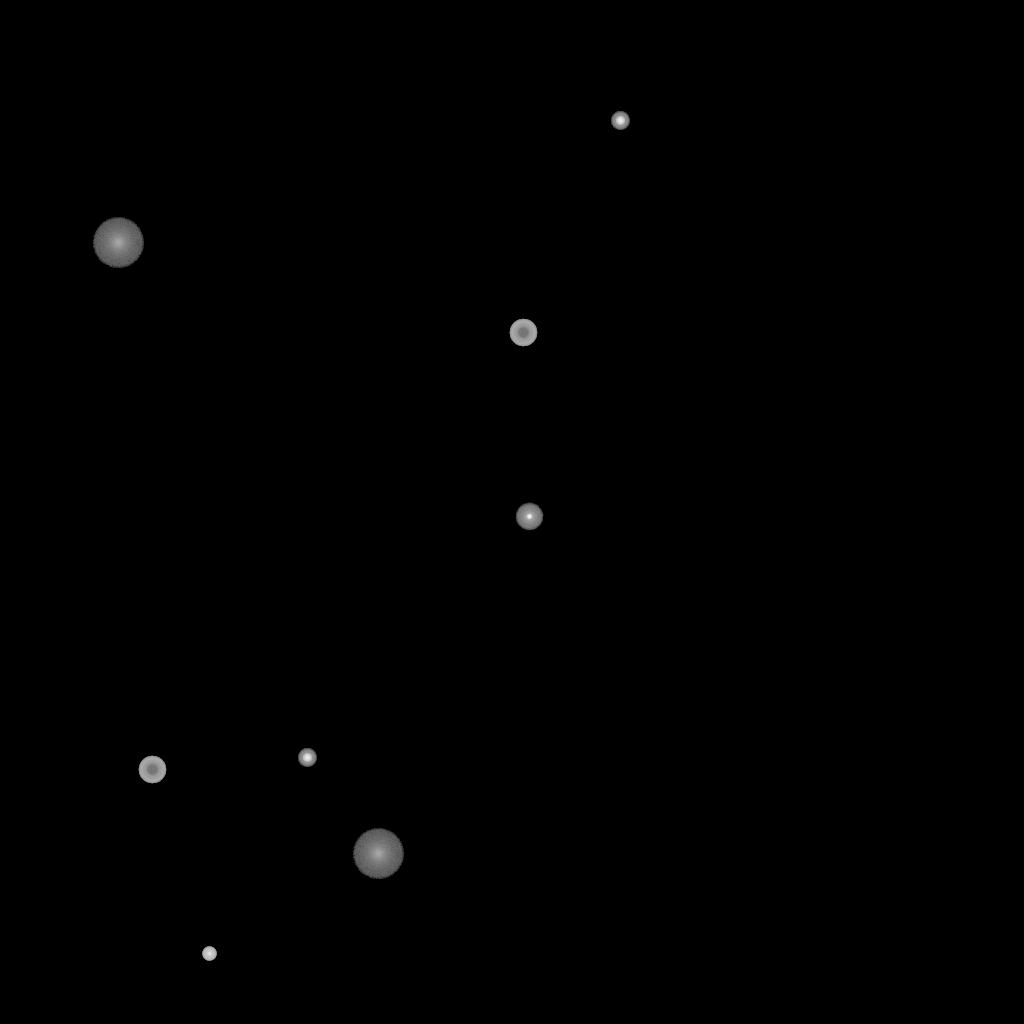depth:-10: (515, 503, 543, 531)
depth:-20: (611, 112, 629, 130), (298, 749, 316, 767)
depth:-30: (202, 947, 216, 961)
depth:-50: (138, 756, 166, 784), (509, 319, 537, 347)
depth:20: (92, 218, 144, 268), (352, 829, 404, 879)
